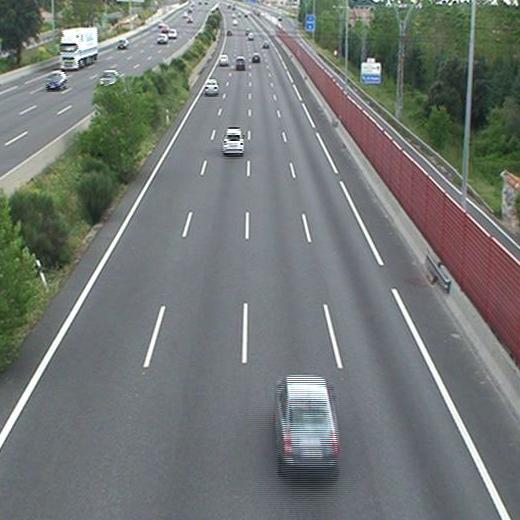car: (277, 377, 338, 467), (223, 129, 243, 154), (203, 80, 218, 95), (261, 39, 270, 49), (251, 53, 260, 62), (236, 56, 244, 66), (219, 56, 227, 65)
